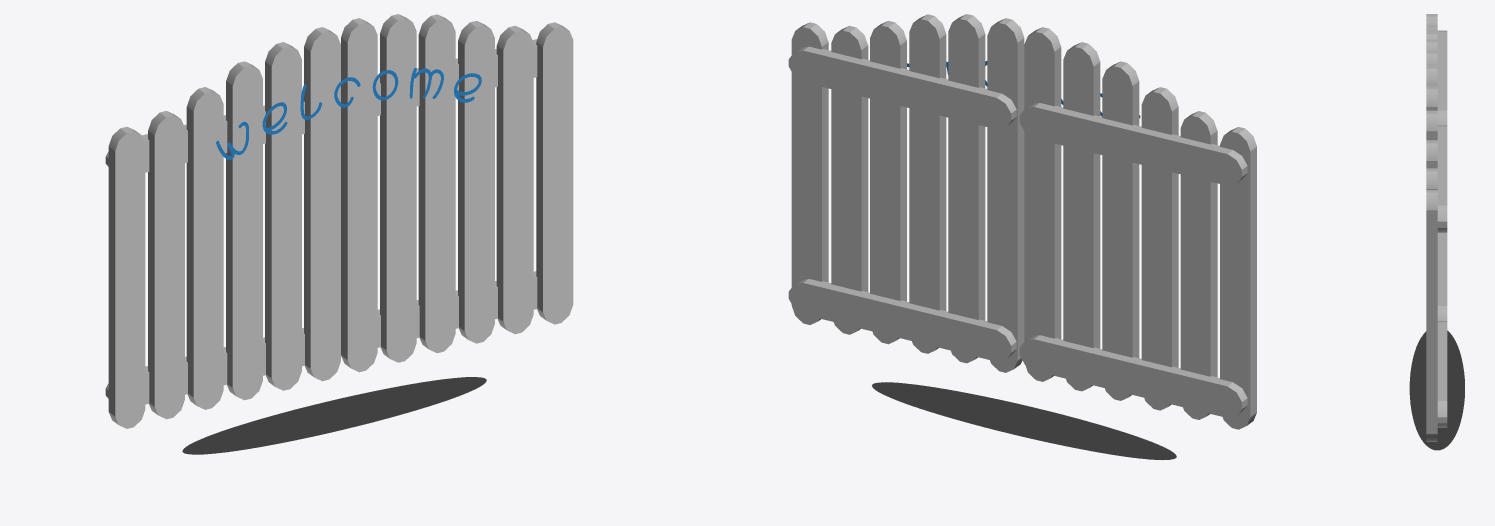
The model's file is paradise_gate.DAE.
The picture shows the model from 3 angles, left to right: view 1: azimuth 30°, elevation 25°; view 2: azimuth 150°, elevation 25°; view 3: azimuth 270°, elevation 25°; orthographic projection. The views are drawn at different scales.
Visible parts, largest first — view 1: paradise_gate, sd_paradise_gate; view 2: paradise_gate, sd_paradise_gate; view 3: paradise_gate, sd_paradise_gate.
Boxes of the visible parts, x1,y1,x2,y2 form: paradise_gate: (105, 14, 573, 428); sd_paradise_gate: (182, 377, 486, 454); paradise_gate: (788, 14, 1256, 429); sd_paradise_gate: (872, 382, 1176, 460); paradise_gate: (1426, 14, 1447, 441); sd_paradise_gate: (1409, 330, 1464, 450).
Bounding box in the file's own units: 1537 × 263 × 966.
Materials: 3 (3 with a texture image).
